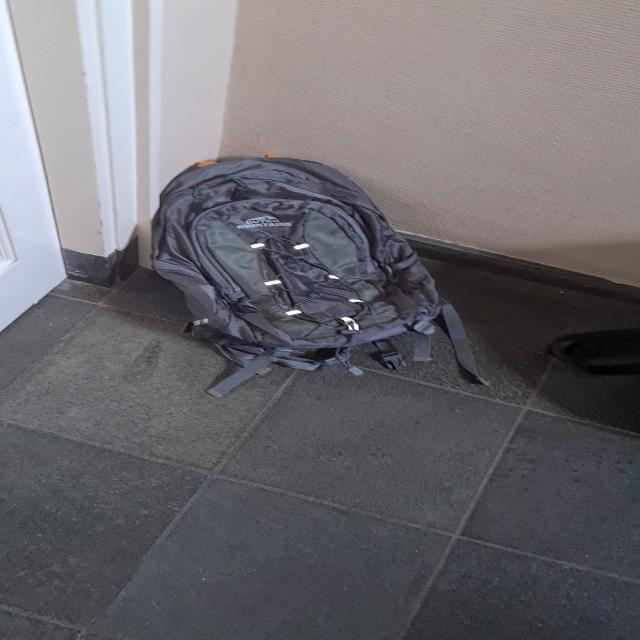backpack: (141, 150, 457, 374)
